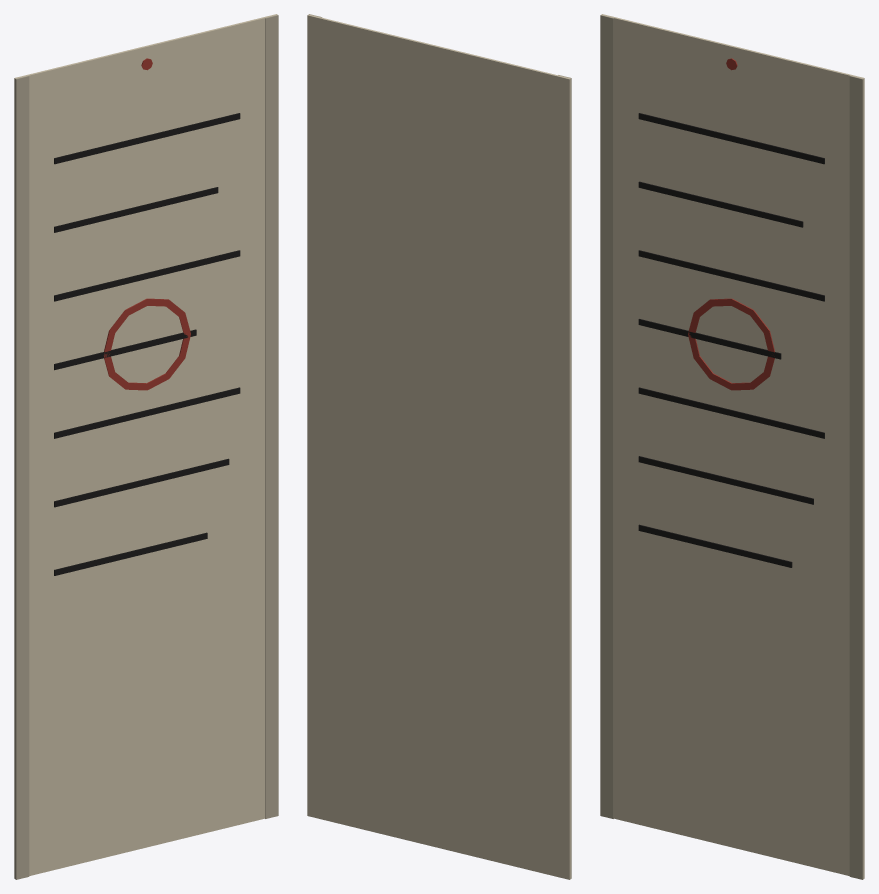
Rendered from chart-printout.glb.
3 renders of one model, left to right at view 1: azimuth 30°, elevation 25°; view 2: azimuth 150°, elevation 25°; view 3: azimuth 330°, elevation 25°, orthographic.
Parts seen in each view (by area): view 1: paper, plastic-light, rubber, accent-warm; view 2: paper, plastic-light; view 3: paper, plastic-light, rubber, accent-warm.
Boxes of the visible parts, left/top/right/bottom form: paper: left=14, top=14, right=277, bottom=879; plastic-light: left=15, top=15, right=278, bottom=879; rubber: left=54, top=113, right=240, bottom=575; accent-warm: left=104, top=58, right=190, bottom=390; paper: left=307, top=14, right=570, bottom=879; plastic-light: left=309, top=14, right=571, bottom=878; paper: left=601, top=14, right=864, bottom=879; plastic-light: left=600, top=15, right=863, bottom=879; rubber: left=638, top=113, right=824, bottom=567; accent-warm: left=688, top=58, right=774, bottom=390.
Size of the model in its own units: 0.24 by 0.7 by 0.003.
